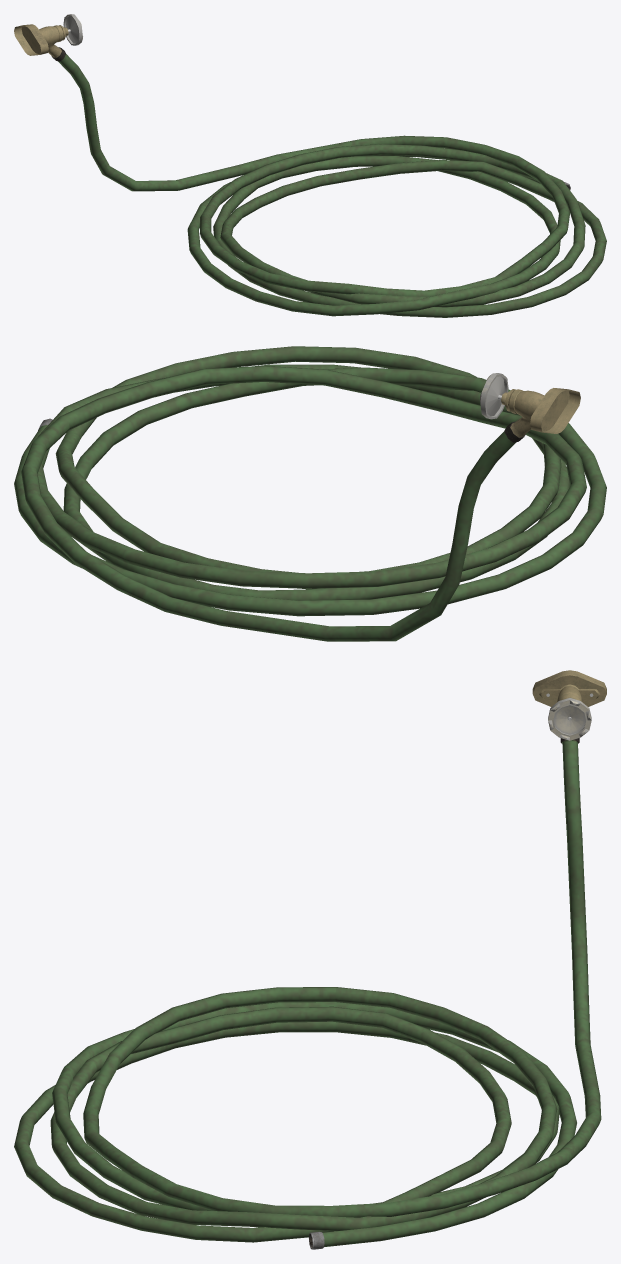
Rendered from manguera.glb.
3 renders of one model, top to bottom at view 1: azimuth 30°, elevation 25°; view 2: azimuth 150°, elevation 25°; view 3: azimuth 270°, elevation 25°, orthographic. The views are drawn at different scales.
Parts seen in each view (by area): view 1: Cube; view 2: Cube; view 3: Cube.
Boxes of the visible parts, x1=… form: Cube: x1=14, y1=14, x2=606, y2=317; Cube: x1=14, y1=346, x2=606, y2=641; Cube: x1=14, y1=670, x2=606, y2=1249.
Size of the model in its own units: 65.35 by 29.07 by 54.67.
1 material, 1 textured.
